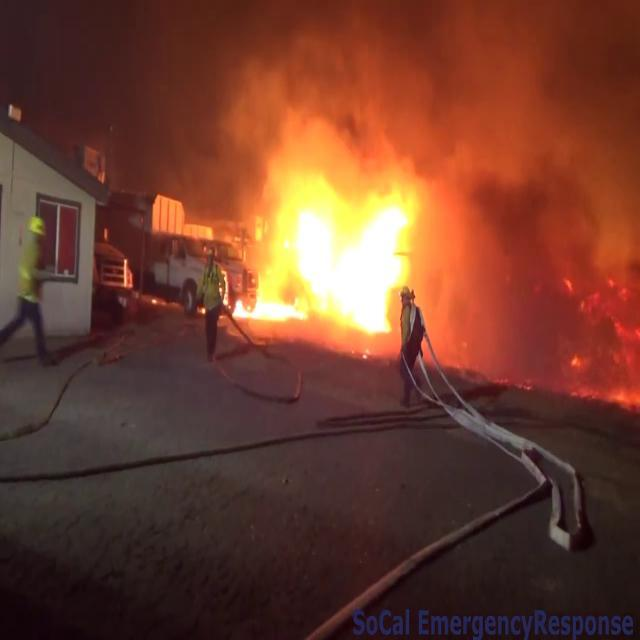Fire: (229, 164, 426, 340)
Smoke: (160, 0, 640, 210)
